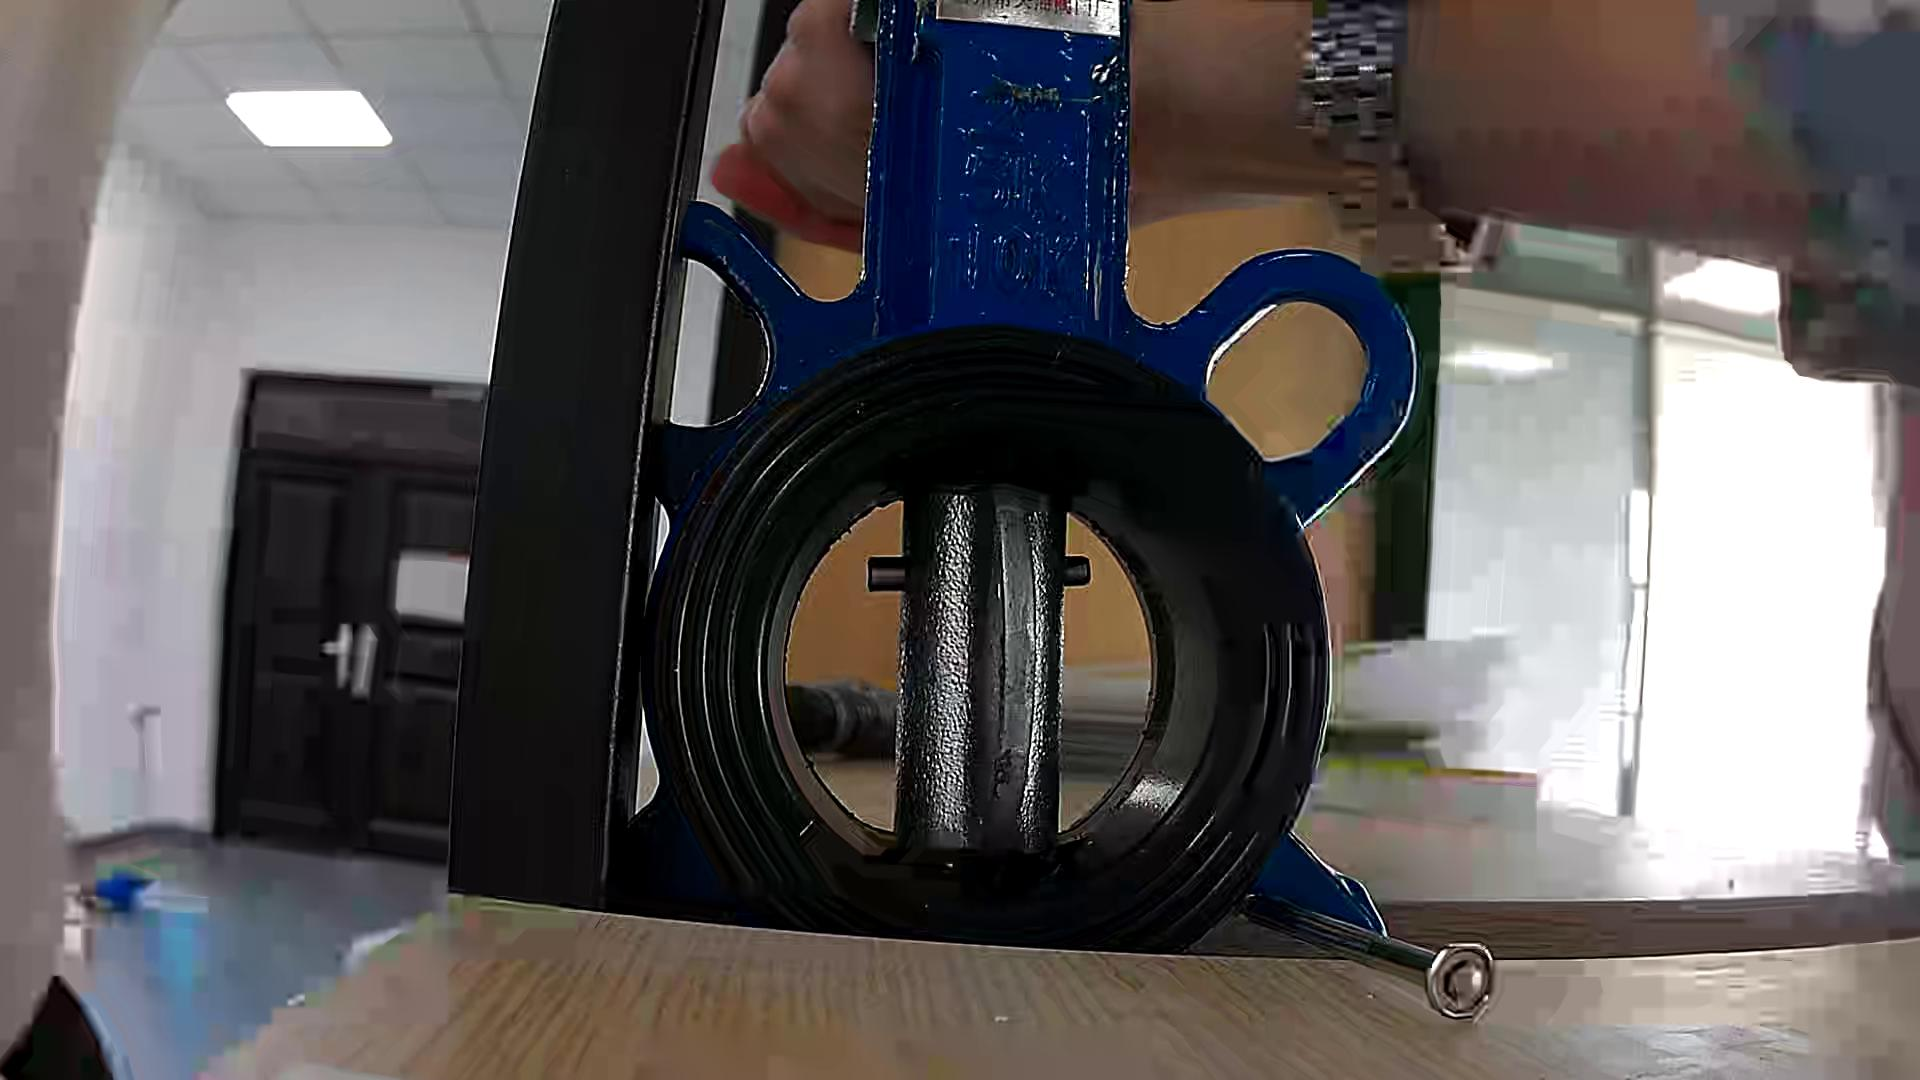valve: (868, 484, 1091, 855)
